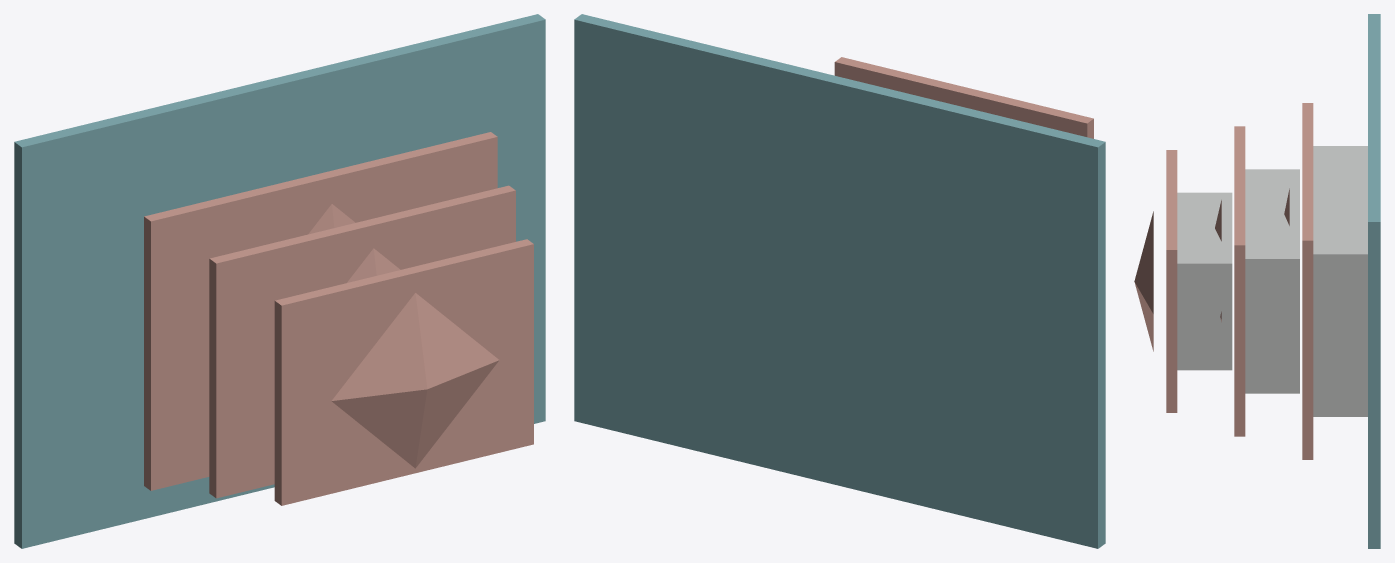
The picture shows the model from 3 angles, left to right: view 1: azimuth 30°, elevation 25°; view 2: azimuth 150°, elevation 25°; view 3: azimuth 270°, elevation 25°; orthographic projection. The views are drawn at different scales.
Parts seen in each view (by area): view 1: section_00, section_08, section_02, section_05, section_09, section_06, section_03; view 2: section_00, section_08; view 3: section_01, section_04, section_07, section_00, section_02, section_05, section_08, section_09.
Part boxes in pixels (x1,y1,x2,y2): section_00: (14,14,545,548); section_08: (274,239,533,505); section_02: (144,132,497,490); section_05: (209,185,515,498); section_09: (331,293,499,468); section_06: (347,248,400,282); section_03: (308,204,355,234); section_00: (574,14,1105,548); section_08: (834,57,1093,138); section_01: (1313,146,1367,416); section_04: (1245,169,1299,393); section_07: (1177,192,1232,370); section_00: (1368,14,1380,548); section_02: (1302,103,1313,459); section_05: (1234,126,1245,436); section_08: (1166,150,1177,412); section_09: (1134,211,1153,351).
Bounding box in the file's own units: 7.1 × 5.2 × 3.55.
